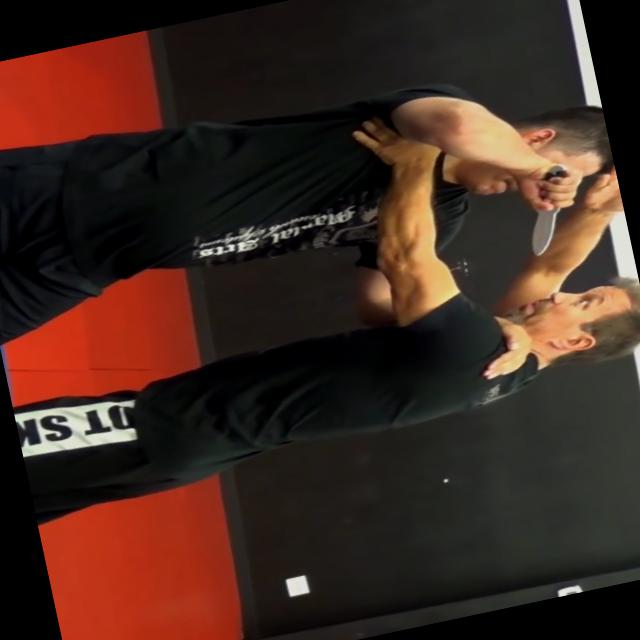knife: (503, 159, 596, 263)
